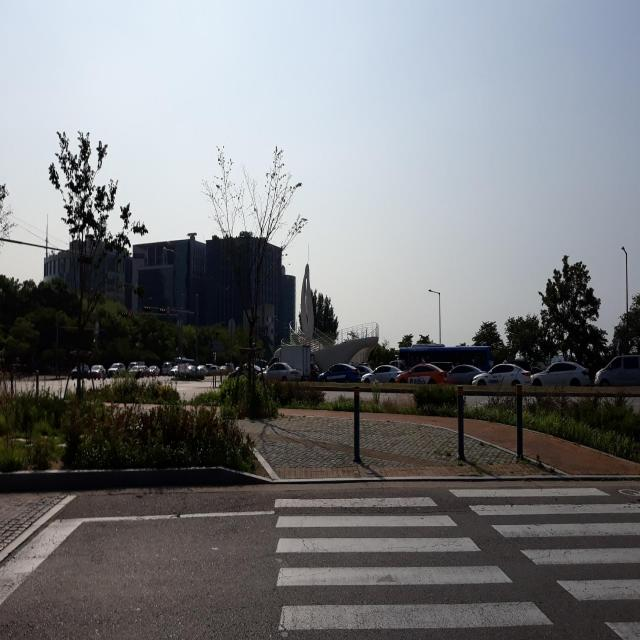횡단보도: (272, 484, 640, 640)
